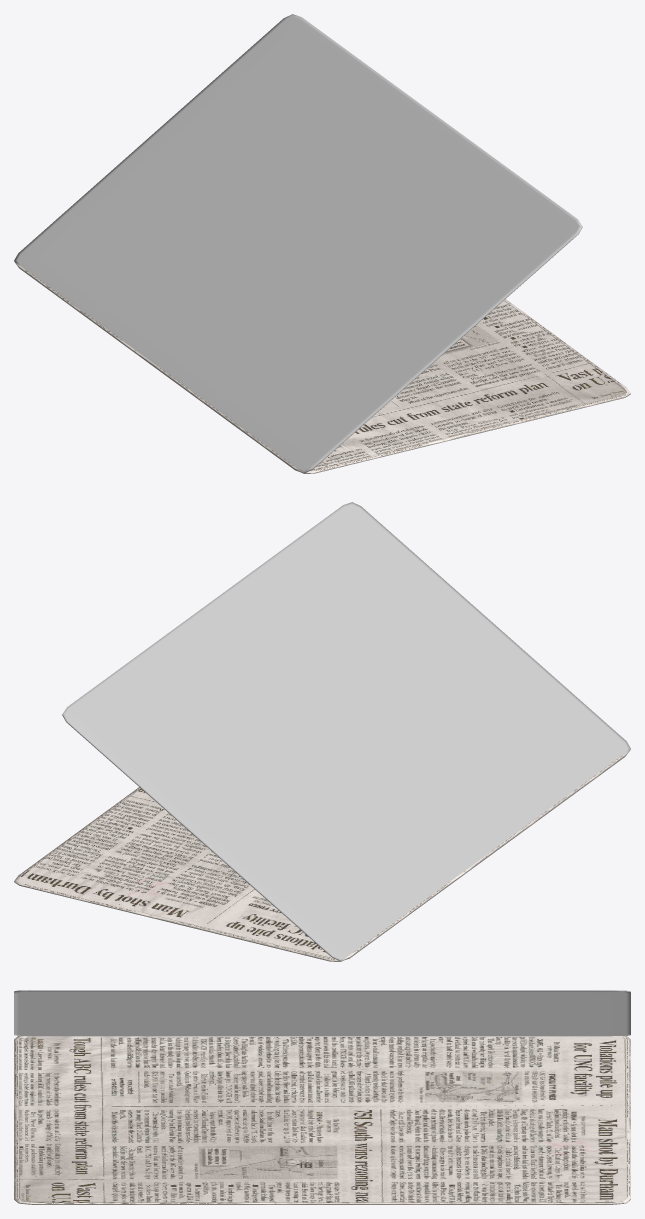
File: newspaper.FBX
3 renders of one model, top to bottom at view 1: azimuth 30°, elevation 25°; view 2: azimuth 150°, elevation 25°; view 3: azimuth 270°, elevation 25°, orthographic. The views are drawn at different scales.
Parts seen in each view (by area): view 1: Page1, Page2; view 2: Page1, Page2; view 3: Page2, Page1.
Boxes of the visible parts, x1,y1,x2,y2 form: Page1: (14,14,582,473); Page2: (14,262,630,473); Page1: (62,502,630,961); Page2: (14,750,630,961); Page2: (14,1036,630,1204); Page1: (14,990,630,1036).
Bounding box in the file's own units: 28 × 14.69 × 43.
